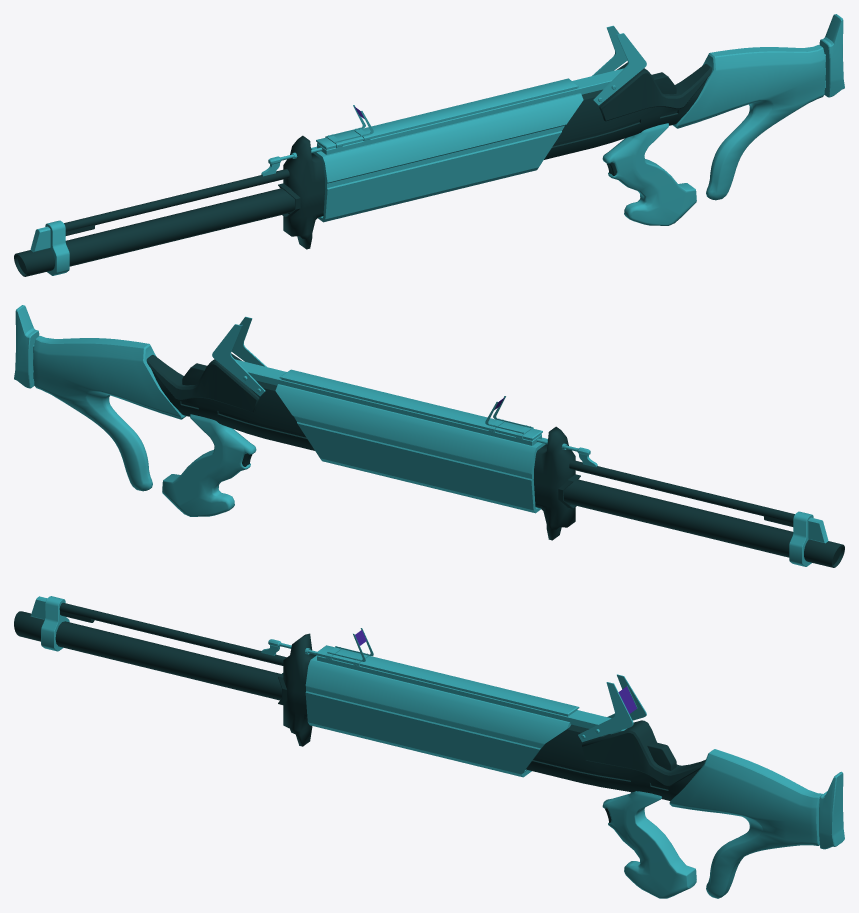
Rendered from futuristic_weapon_2.FBX.
The picture shows the model from 3 angles, top to bottom: view 1: azimuth 30°, elevation 25°; view 2: azimuth 150°, elevation 25°; view 3: azimuth 330°, elevation 25°; orthographic projection.
Visible parts, largest first — view 1: futuristic_weapon2_2, futuristic_weapon2_1; view 2: futuristic_weapon2_2, futuristic_weapon2_1; view 3: futuristic_weapon2_2, futuristic_weapon2_1.
Boxes of the visible parts, x1=… form: futuristic_weapon2_2: x1=30, y1=14, x2=844, y2=275; futuristic_weapon2_1: x1=14, y1=62, x2=712, y2=276; futuristic_weapon2_2: x1=14, y1=305, x2=828, y2=566; futuristic_weapon2_1: x1=146, y1=353, x2=844, y2=567; futuristic_weapon2_2: x1=30, y1=596, x2=844, y2=898; futuristic_weapon2_1: x1=14, y1=602, x2=705, y2=822.
Size of the model in its own units: 102 by 4.73 by 24.44.
